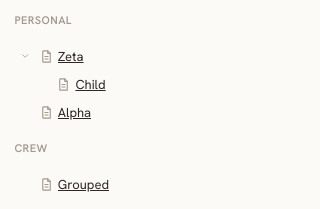
Test: PageTree › hides subpages when the parent toggle is collapsed
Expected: the text "Child" is shown, x1=75 y1=76 x2=106 y2=92
Click the button named "Hide subpages": (26, 56) x1=14 y1=45 x2=37 y2=67
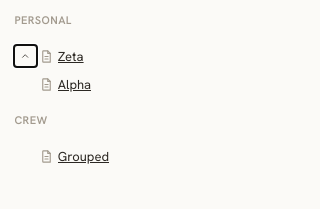
Result: the link "Child" is gone
